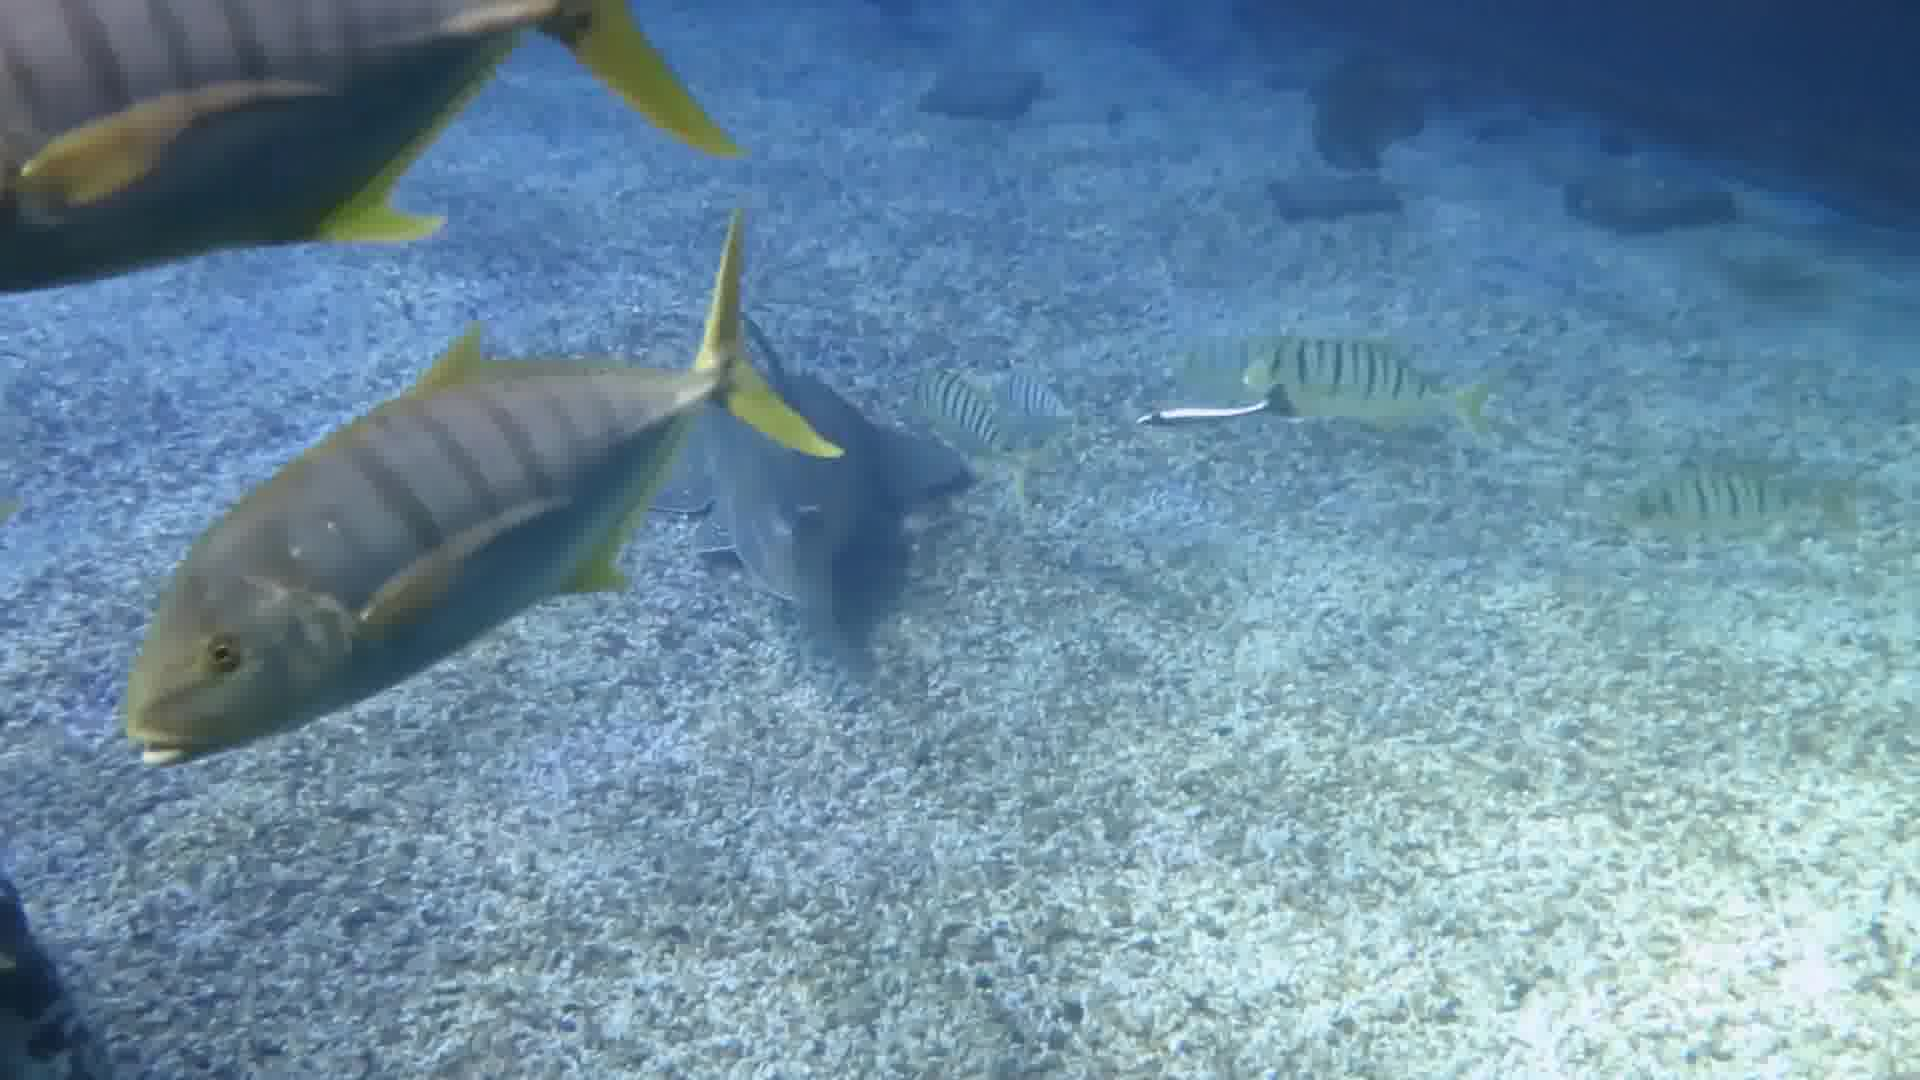Rhychobatus djiddensis: (649, 262, 977, 707)
